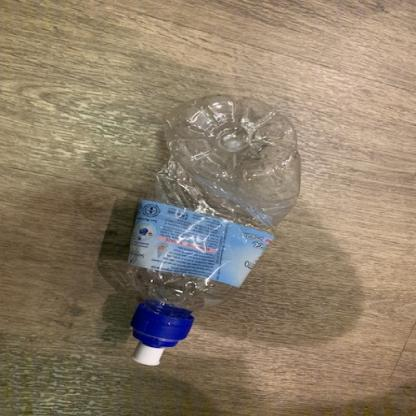trash: (112, 92, 308, 374)
